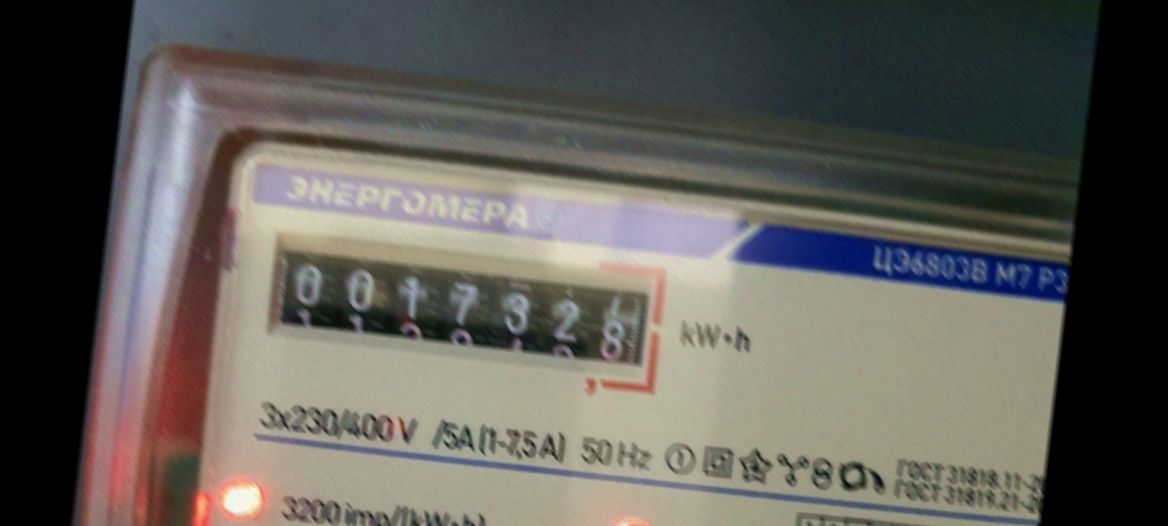0: (290, 260, 328, 308), (344, 264, 378, 313)
1: (398, 271, 424, 320)
2: (549, 295, 583, 343)
3: (501, 289, 533, 335)
7: (448, 279, 479, 328)
8: (596, 317, 627, 362)
screen: (253, 223, 676, 398)
